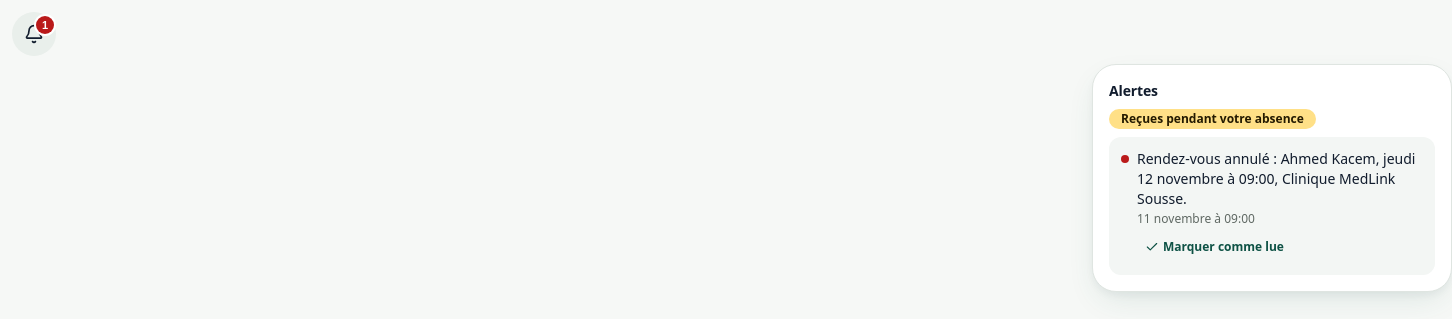
Test case: Escape closes the list and gives the focus back to the bell
Expected: the element "Alertes" is shown, [1092,64,1451,292]
Click the button named "Notifications".
click(34, 34)  # box [12,12,56,56]
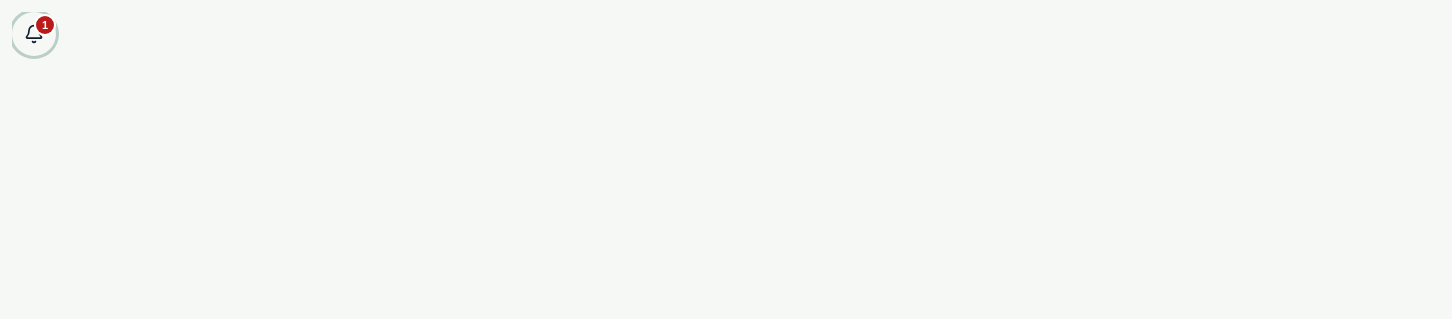
Click the button named "Notifications".
click(34, 34)  # box [12,12,56,56]
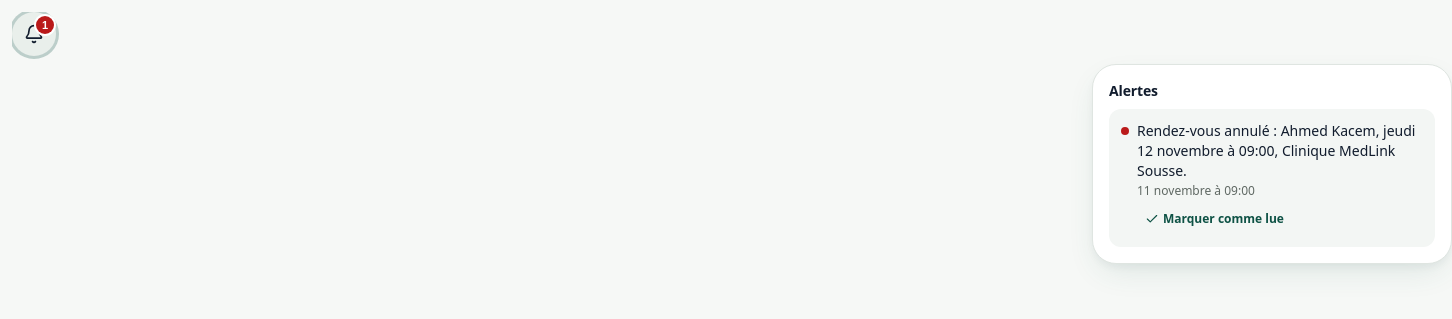
Press Escape
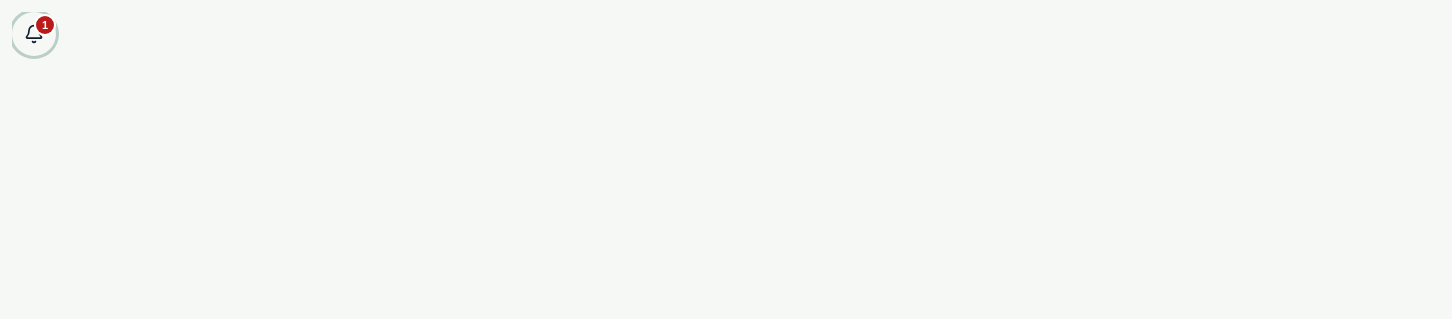
Now the heading "Alertes" is gone
